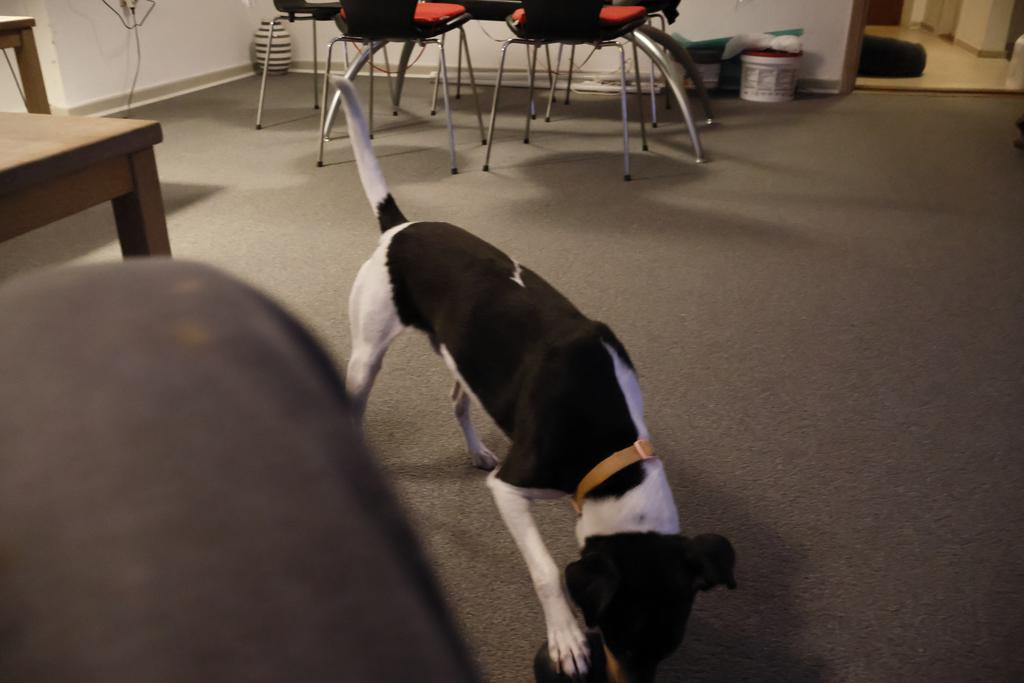Dog: (326, 73, 744, 683)
Humanoid: (0, 253, 489, 683)
